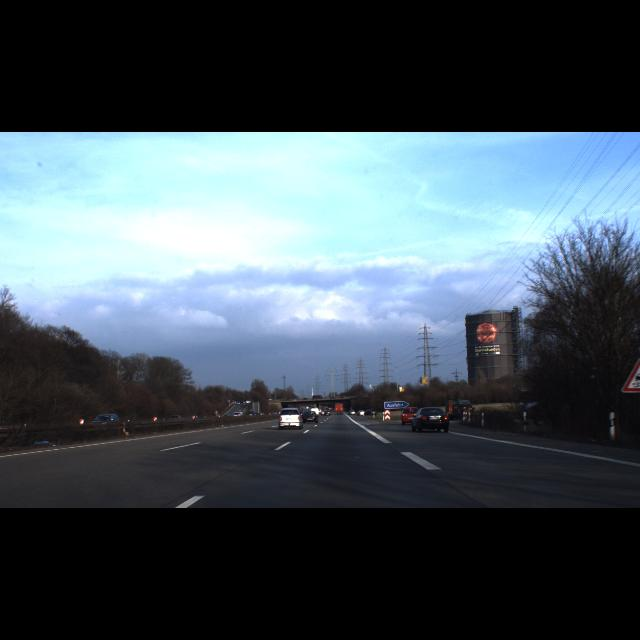danger: (620, 358, 640, 392)
